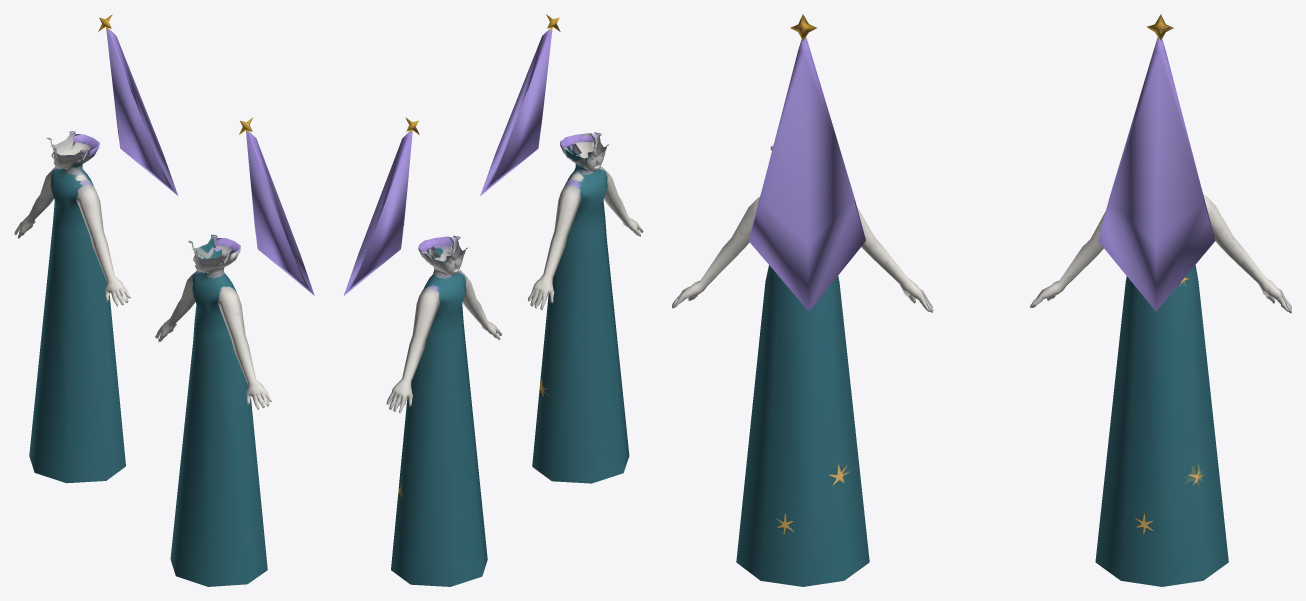
3 views of the same model, side by side, from view 1: azimuth 30°, elevation 25°; view 2: azimuth 150°, elevation 25°; view 3: azimuth 270°, elevation 25° (orthographic). The views are drawn at different scales.
Parts seen in each view (by area): view 1: tripo_node_a2e71ed4-6492-4e04-98bc-3780cd448c84; view 2: tripo_node_a2e71ed4-6492-4e04-98bc-3780cd448c84; view 3: tripo_node_a2e71ed4-6492-4e04-98bc-3780cd448c84.
Boxes of the visible parts, box(x1,y1,x2,y2) form: tripo_node_a2e71ed4-6492-4e04-98bc-3780cd448c84: box(14, 14, 314, 586); tripo_node_a2e71ed4-6492-4e04-98bc-3780cd448c84: box(343, 14, 643, 586); tripo_node_a2e71ed4-6492-4e04-98bc-3780cd448c84: box(672, 14, 1291, 586).
Size of the model in its own units: 0.334 by 0.9941 by 0.998.
1 material, 1 textured.
